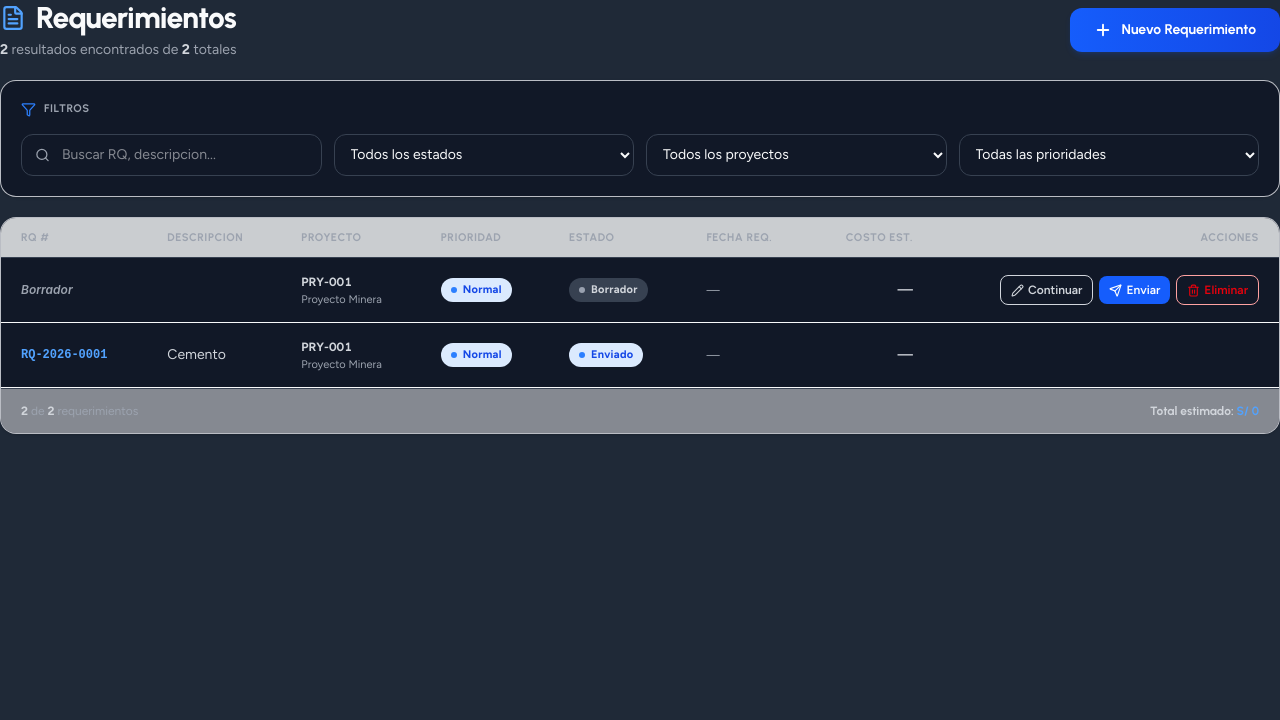
RequestListPage — borradores (SYSPCC-031) › confirmar Eliminar borra el borrador, avisa y recarga la lista
Click the button with aria-label "Eliminar el borrador".
click(1218, 290)  # box [1176,275,1259,305]
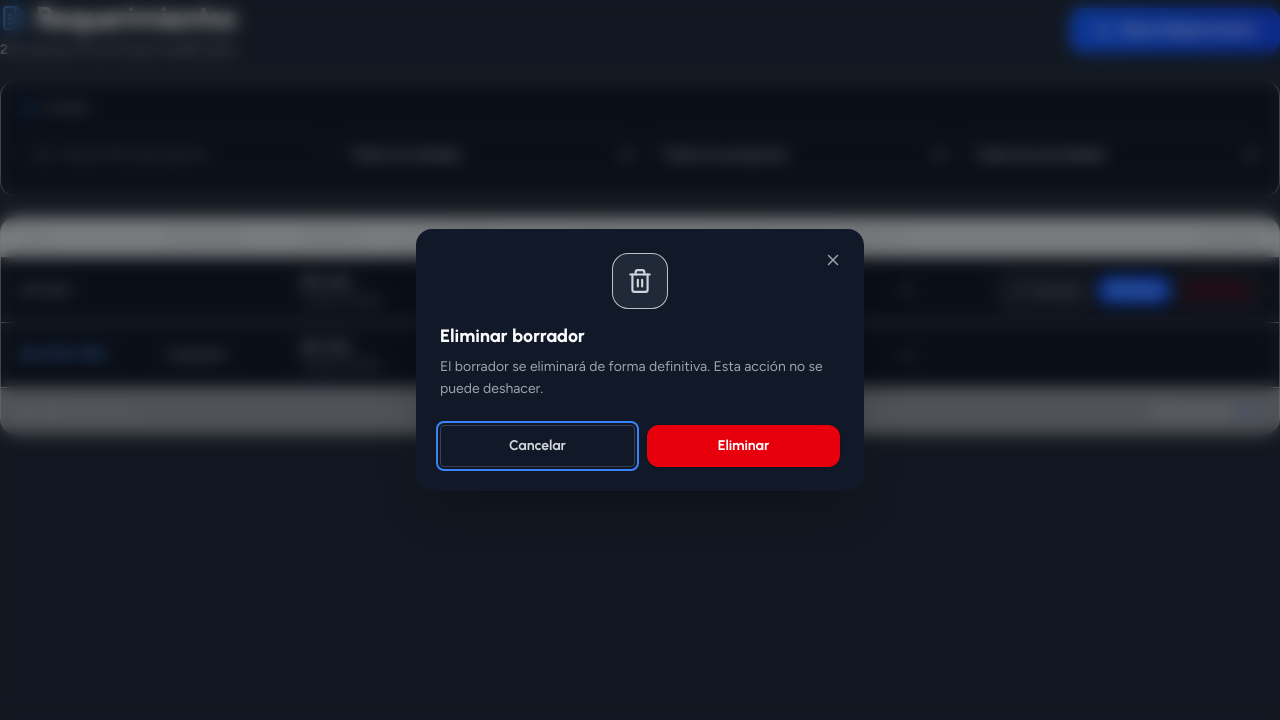
Click the button "Eliminar".
click(744, 446)  # box [647,425,840,467]
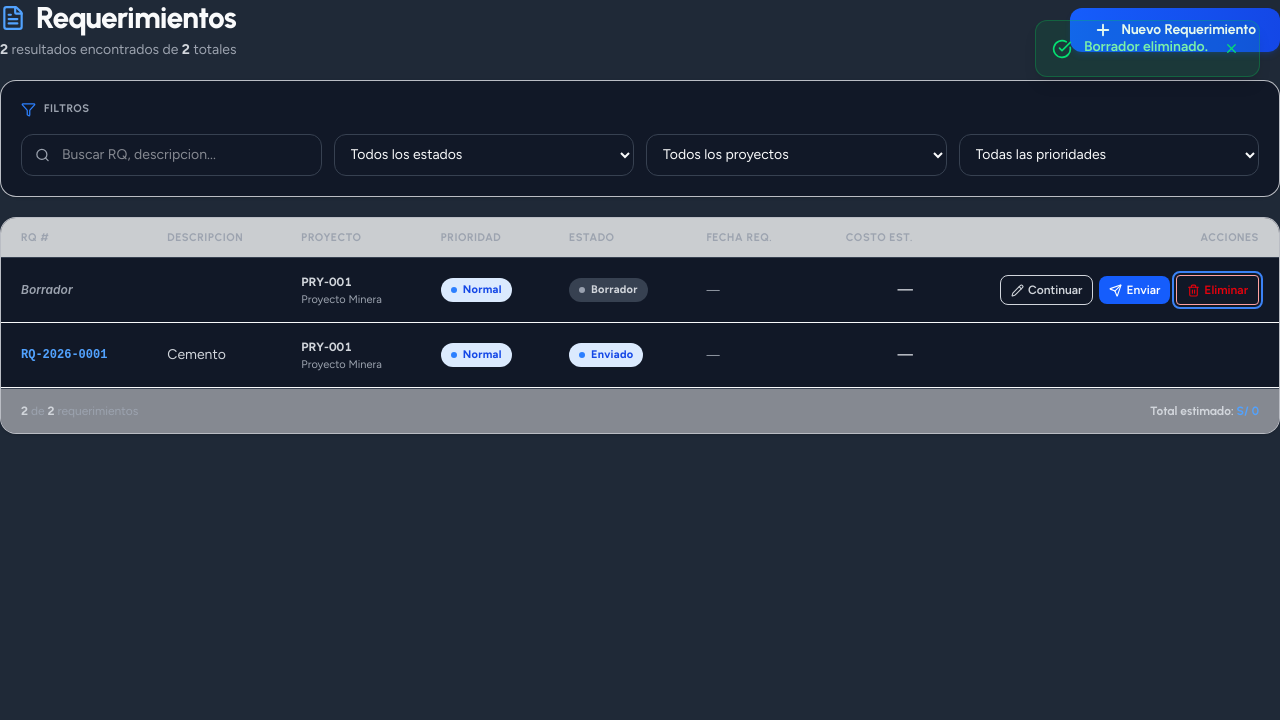
Now the text "Borrador eliminado." is shown, box [1084,37,1208,56]
